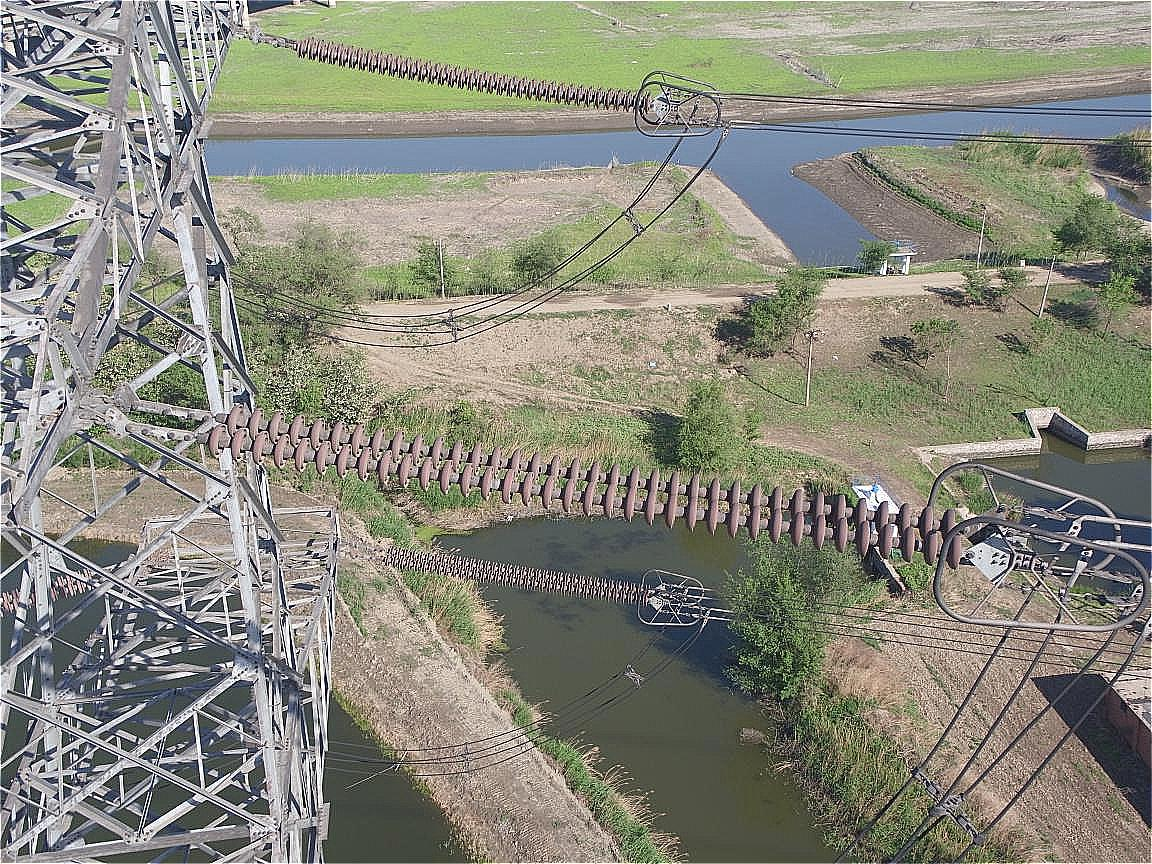insultor1: (175, 396, 997, 569)
insultor2: (283, 32, 663, 111), (372, 542, 667, 606)
